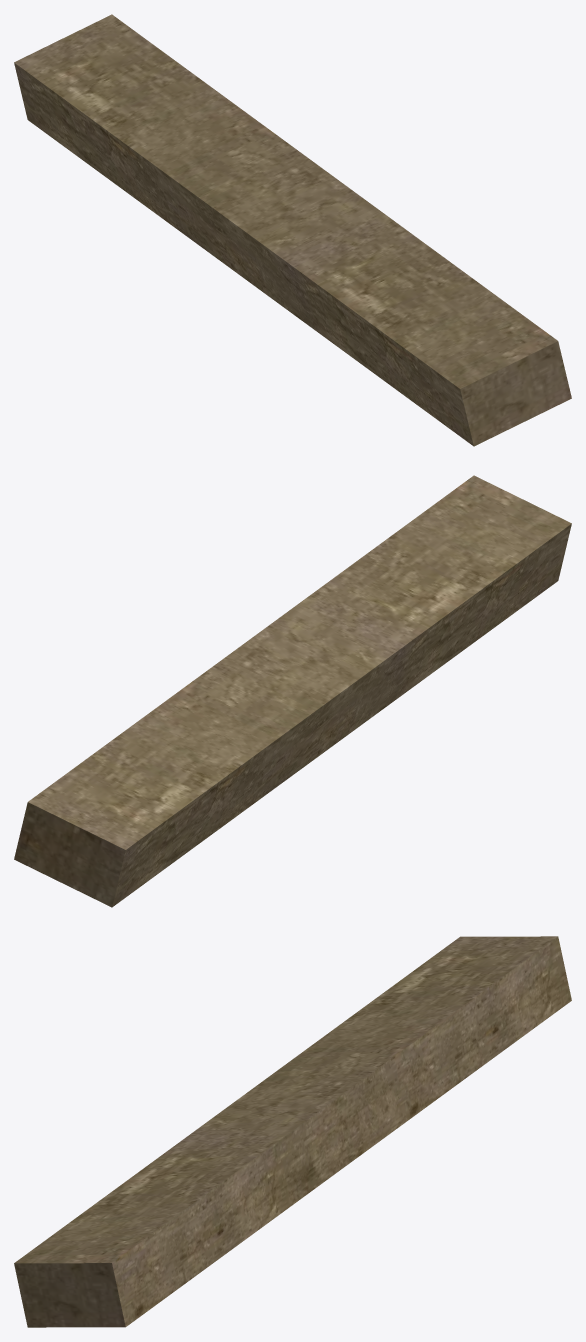
Rendered from BoxWoodA_S.glb.
3 views of the same model, one above another, from view 1: azimuth 30°, elevation 25°; view 2: azimuth 150°, elevation 25°; view 3: azimuth 330°, elevation 25° (orthographic).
Visible parts, largest first — view 1: BoxWoodA_S; view 2: BoxWoodA_S; view 3: BoxWoodA_S.
Part boxes in pixels (x1,y1,x2,y2): BoxWoodA_S: [14, 14, 571, 446]; BoxWoodA_S: [14, 475, 571, 907]; BoxWoodA_S: [14, 936, 571, 1327].
Bounding box in the file's own units: 0.1683 × 0.1223 × 1.16.
Materials: 1 (1 with a texture image).
